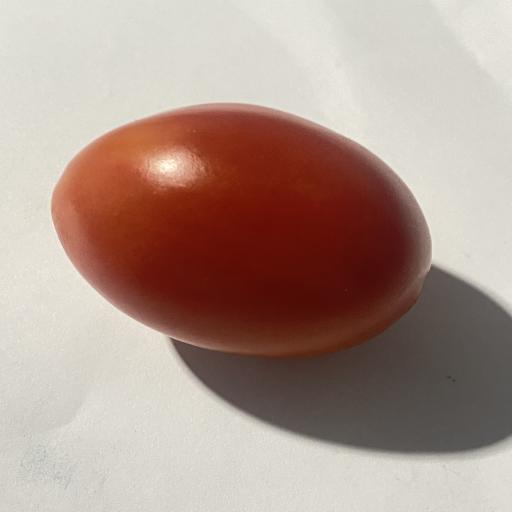ripe: (51, 104, 431, 357)
